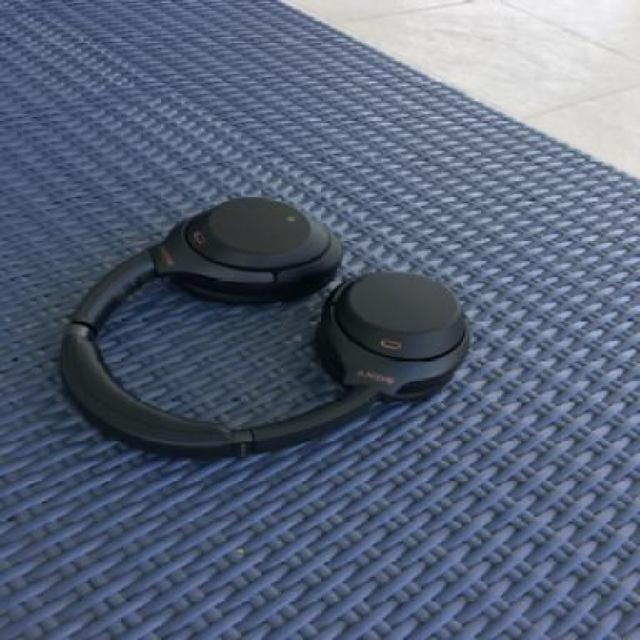earphone: (56, 175, 586, 518)
